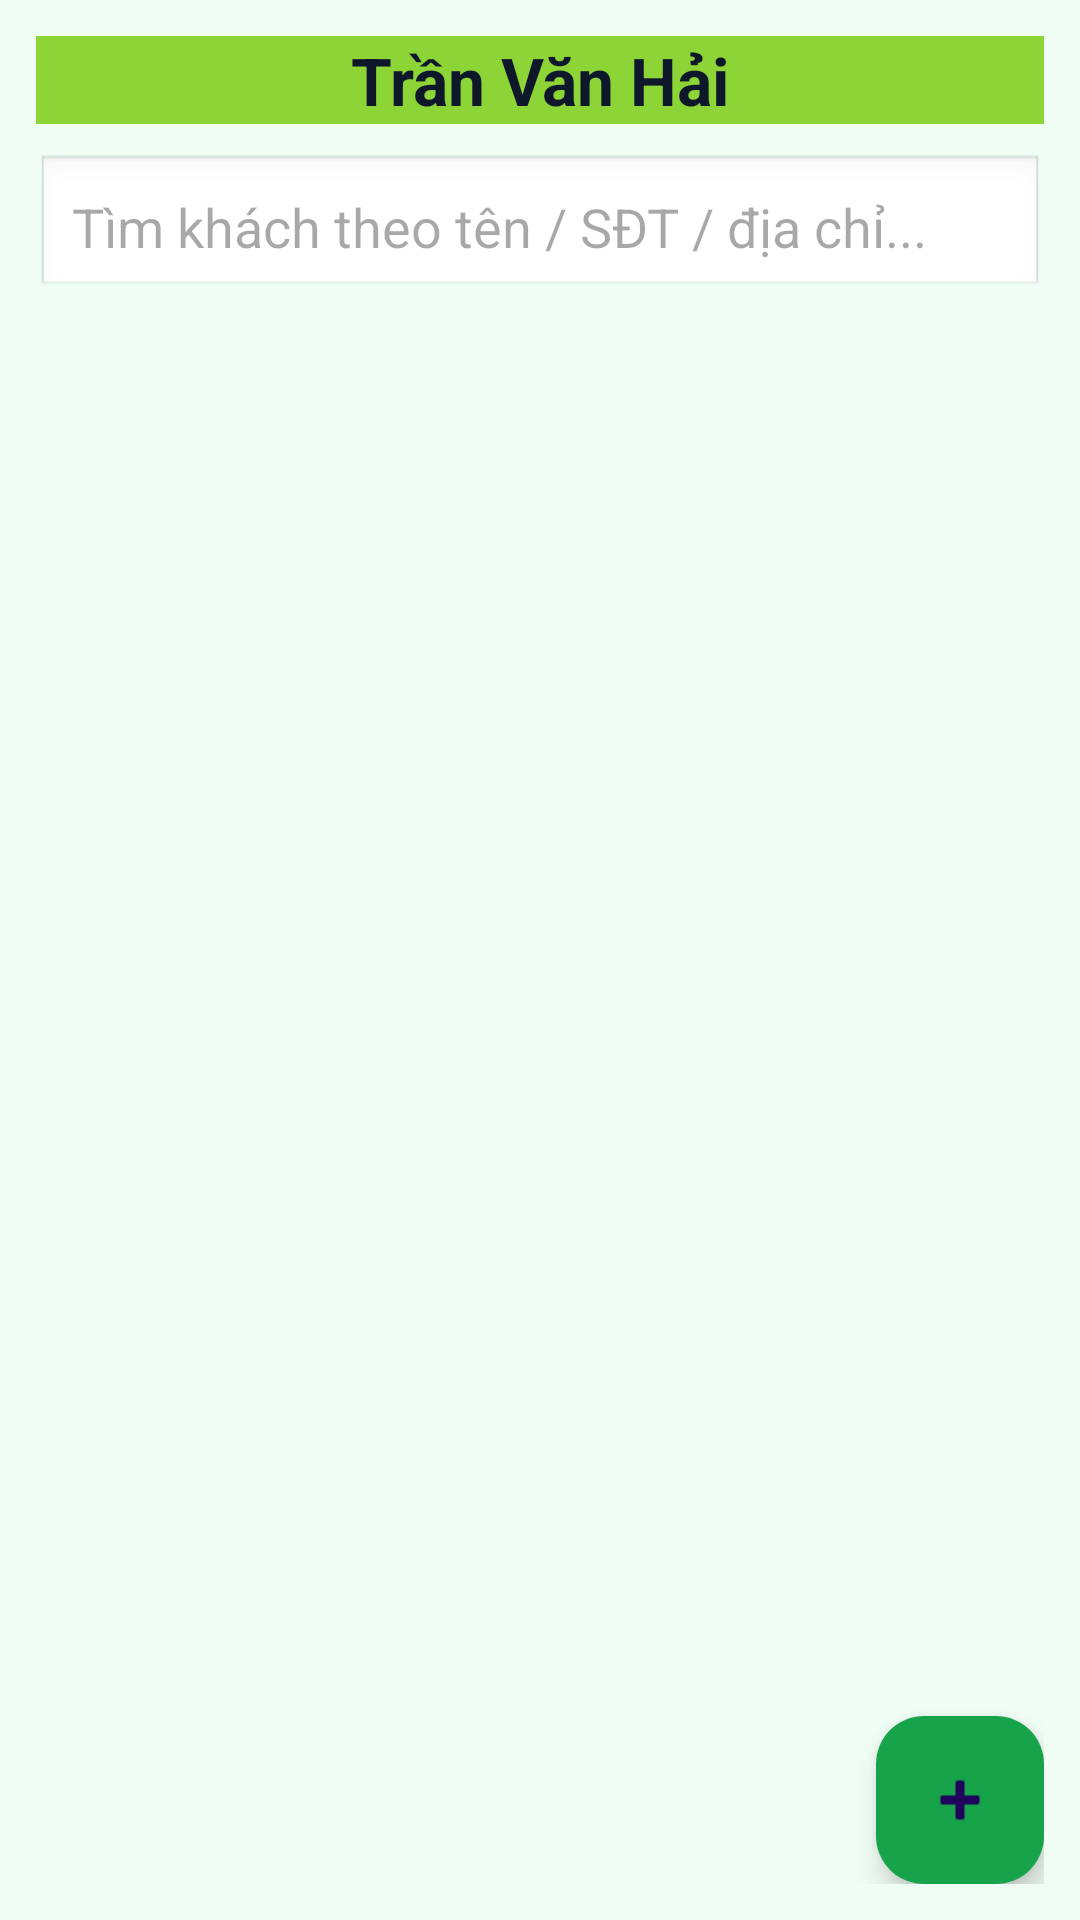

Where to tap for icons on this 1080*1920 app screen, as point (x, y):
add: point (960, 1800)
